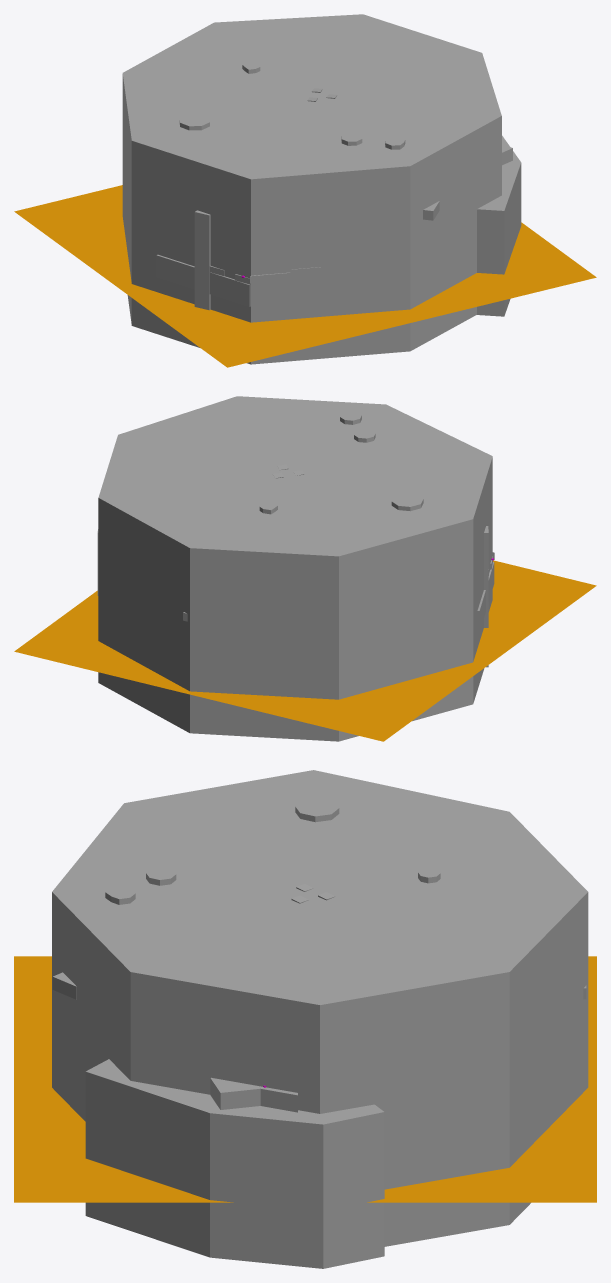
File: env_level4_finalBossV1.fbx
The picture shows the model from 3 angles, top to bottom: view 1: azimuth 30°, elevation 25°; view 2: azimuth 150°, elevation 25°; view 3: azimuth 270°, elevation 25°; orthographic projection. The views are drawn at different scales.
Visible parts, largest first — view 1: pCylinder4, pPlane1, pCube24, pCube15, pCube5, pCylinder3; view 2: pCylinder4, pPlane1, pCylinder3, pCube5; view 3: pCylinder4, pCube24, pPlane1, pCube27, pCylinder3.
Part boxes in pixels (x1,y1,x2,y2): pCylinder4: (122,14,501,364); pPlane1: (14,185,596,367); pCube24: (477,135,521,316); pCube15: (156,254,250,306); pCube5: (194,210,210,347); pCylinder3: (179,113,209,130); pCylinder4: (98,396,492,741); pPlane1: (14,560,596,741); pCylinder3: (391,493,423,511); pCube5: (484,526,488,667); pCylinder4: (52,770,588,1246); pCube24: (85,1059,384,1268); pPlane1: (14,956,596,1202); pCube27: (210,1077,297,1112); pCylinder3: (295,797,339,822).
Bounding box in the file's own units: 22777 × 10786 × 22000.
